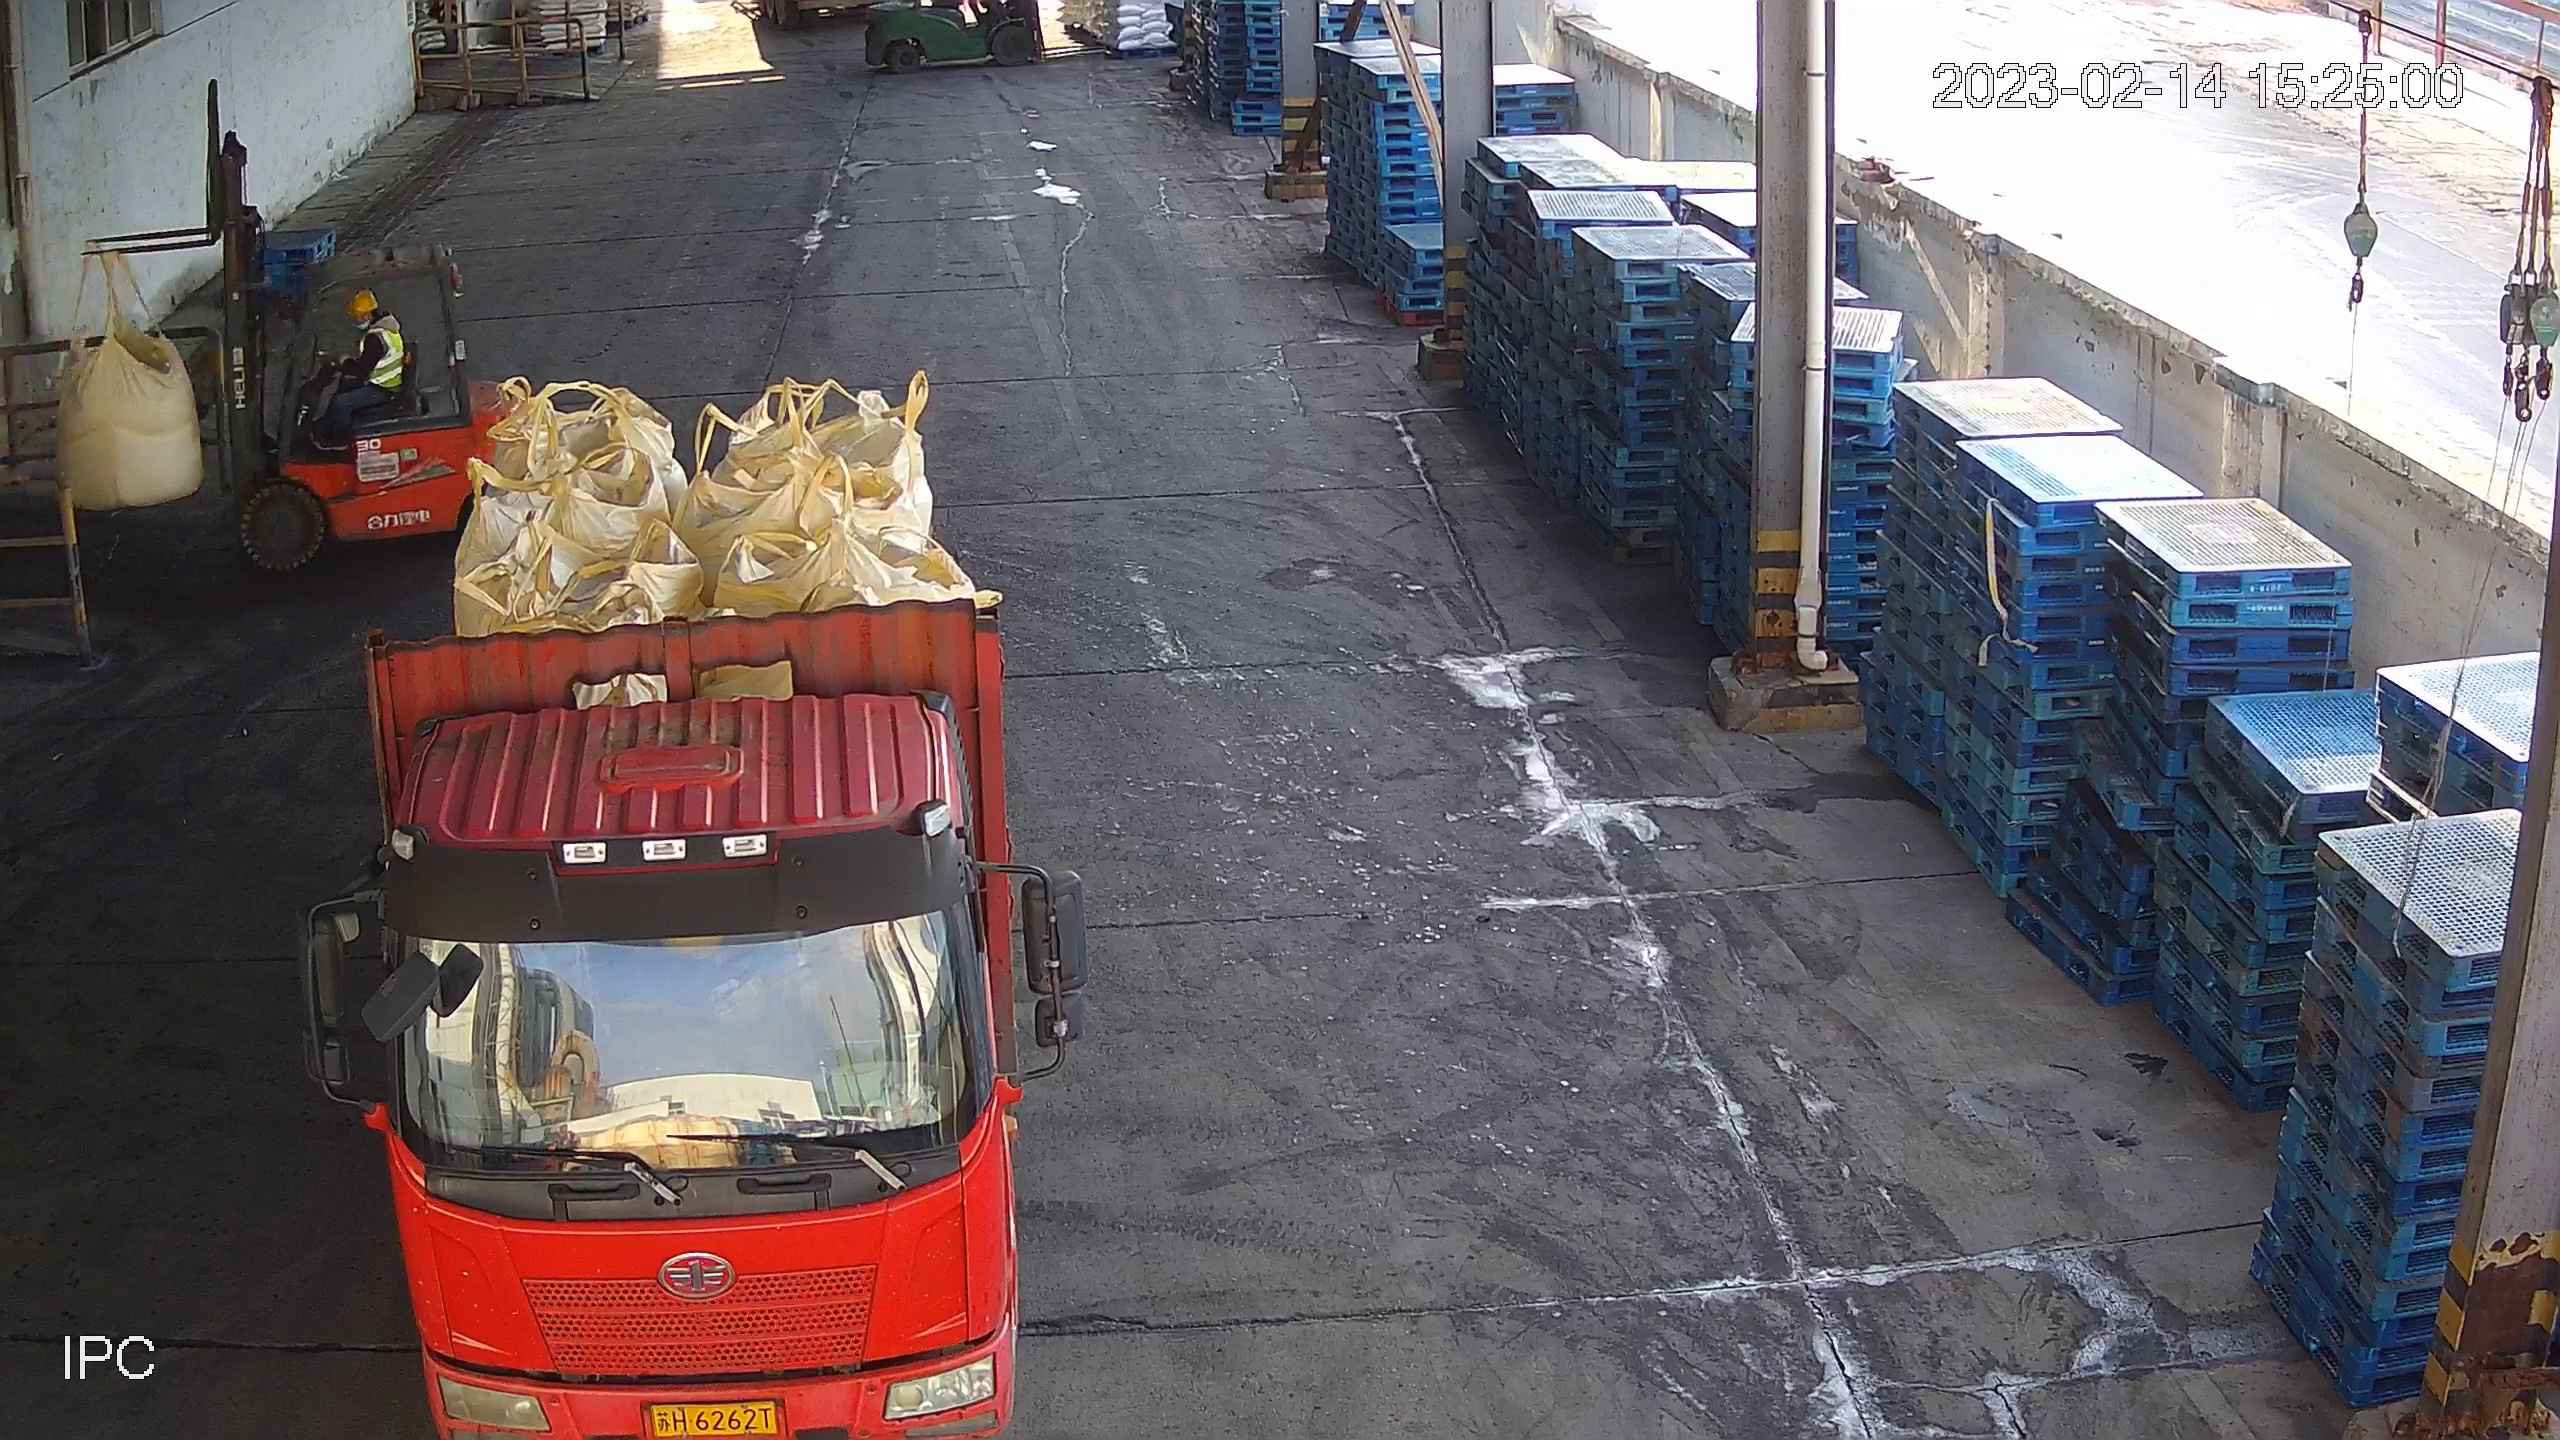head: (333, 290, 409, 357)
helmet: (344, 279, 383, 327)
people: (298, 275, 418, 421)
truck: (309, 377, 1094, 1440)
